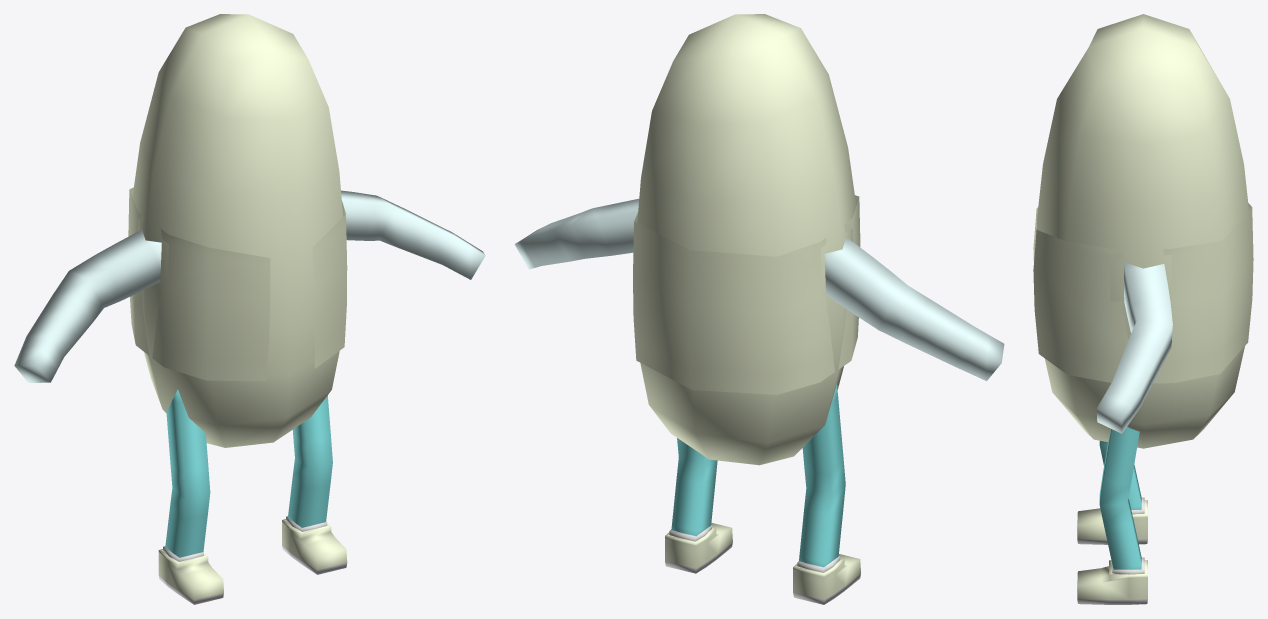
File: rice_B_GEO.fbx
3 renders of one model, left to right at view 1: azimuth 30°, elevation 25°; view 2: azimuth 150°, elevation 25°; view 3: azimuth 270°, elevation 25°, orthographic. The views are drawn at different scales.
Visible parts, largest first — view 1: rice_B; view 2: rice_B; view 3: rice_B.
Part boxes in pixels (x1,y1,x2,y2): rice_B: (14,14,485,604); rice_B: (514,14,1004,604); rice_B: (1033,14,1253,604).
Bounding box in the file's own units: 195 × 217 × 79.41.
